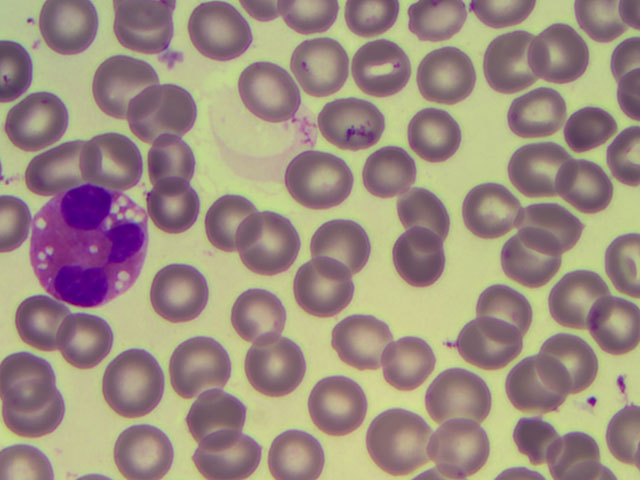RBC: (256, 422, 314, 480), (201, 422, 259, 480), (111, 422, 169, 480), (12, 92, 70, 149), (25, 134, 83, 191), (83, 132, 141, 189), (97, 55, 155, 112), (134, 84, 192, 141), (114, 1, 172, 58), (199, 3, 257, 60), (238, 65, 296, 122), (289, 36, 347, 93), (344, 39, 402, 96), (414, 44, 472, 101), (485, 34, 543, 91), (529, 22, 587, 79), (509, 84, 567, 141), (565, 98, 623, 155), (562, 156, 620, 213), (511, 138, 569, 195), (518, 201, 576, 258), (503, 233, 561, 290), (473, 273, 531, 330), (459, 313, 517, 370), (428, 371, 486, 428), (431, 421, 489, 478), (499, 360, 557, 417), (539, 338, 597, 395), (579, 300, 637, 357), (549, 265, 607, 322), (502, 400, 560, 457), (541, 416, 599, 473), (367, 408, 425, 465), (381, 336, 439, 393), (333, 312, 391, 369), (385, 230, 443, 287), (392, 177, 450, 234), (366, 141, 424, 198), (407, 112, 465, 169), (324, 95, 382, 152), (281, 150, 339, 207), (308, 220, 366, 277), (281, 254, 339, 311), (303, 370, 361, 427), (189, 393, 247, 450), (169, 341, 227, 398), (246, 340, 304, 397), (226, 285, 284, 342), (237, 215, 295, 272), (211, 194, 269, 251), (146, 261, 204, 318), (143, 173, 201, 230), (141, 128, 199, 185), (55, 314, 113, 371), (8, 291, 66, 348), (103, 349, 161, 406), (9, 385, 67, 442), (1, 350, 58, 407), (36, 1, 94, 57)
WBC: (30, 189, 149, 304)
